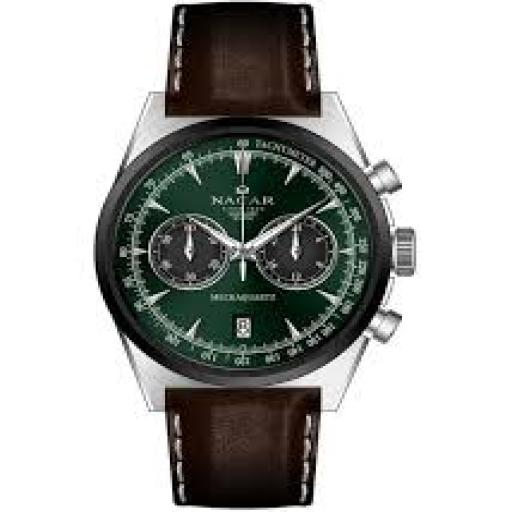KolSaati: (84, 0, 418, 512)
